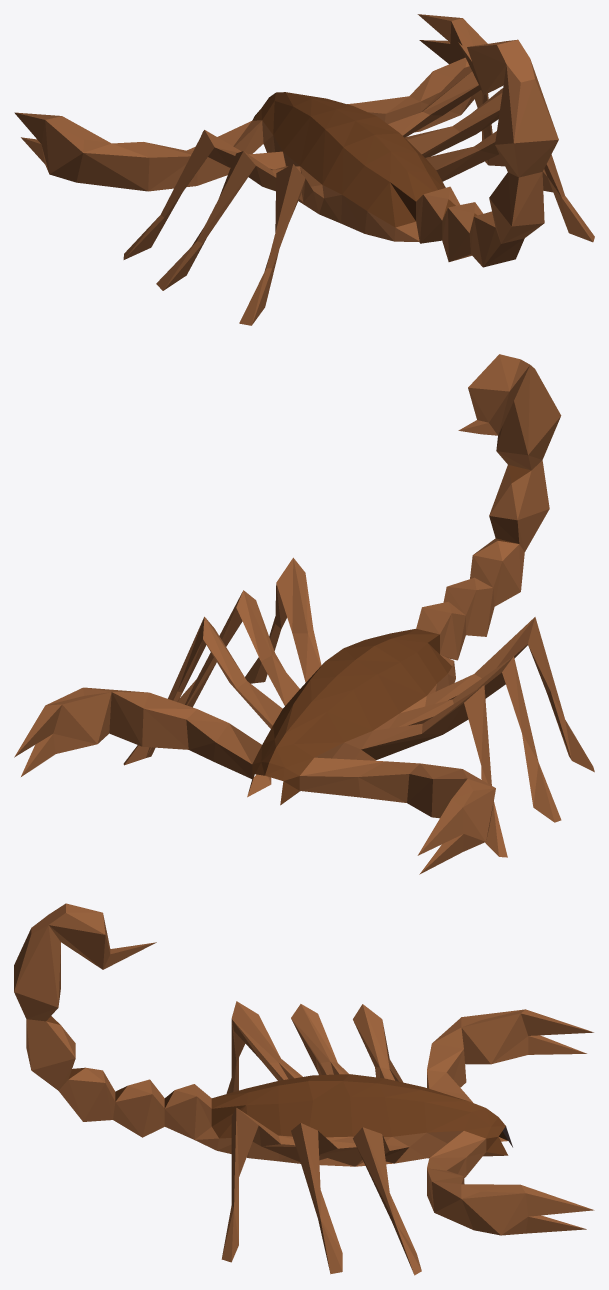
The model's file is npc_world_scorpion_0.obj.
3 views of the same model, one above another, from view 1: azimuth 30°, elevation 25°; view 2: azimuth 150°, elevation 25°; view 3: azimuth 270°, elevation 25° (orthographic). The views are drawn at different scales.
Bounding box in the file's own units: 1.44 × 0.9844 × 1.84.
